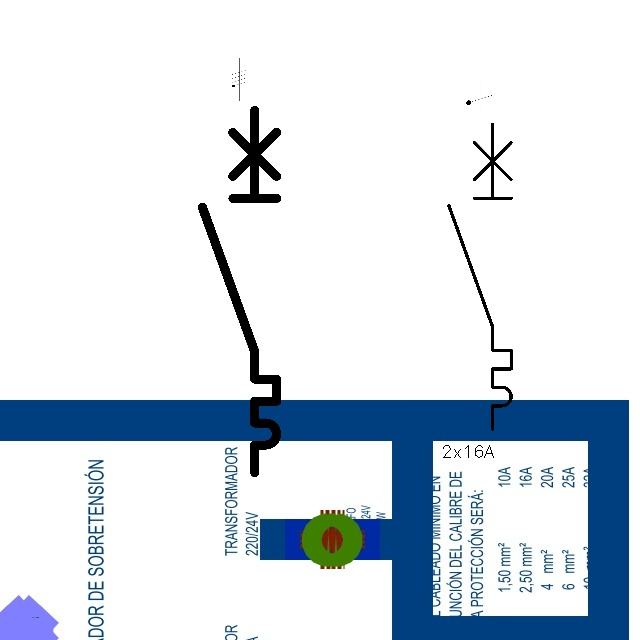interruptor_termomagnetico: (193, 101, 286, 482), (441, 116, 519, 437)
